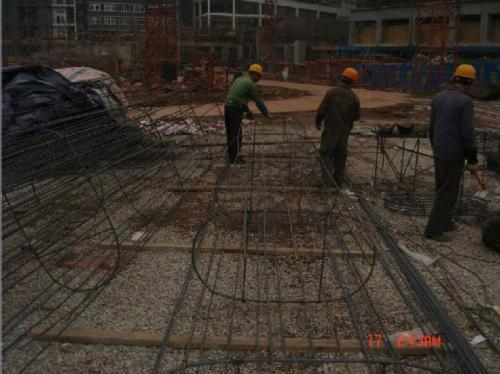helmet: (450, 60, 479, 94), (339, 66, 359, 90), (246, 62, 265, 84)
